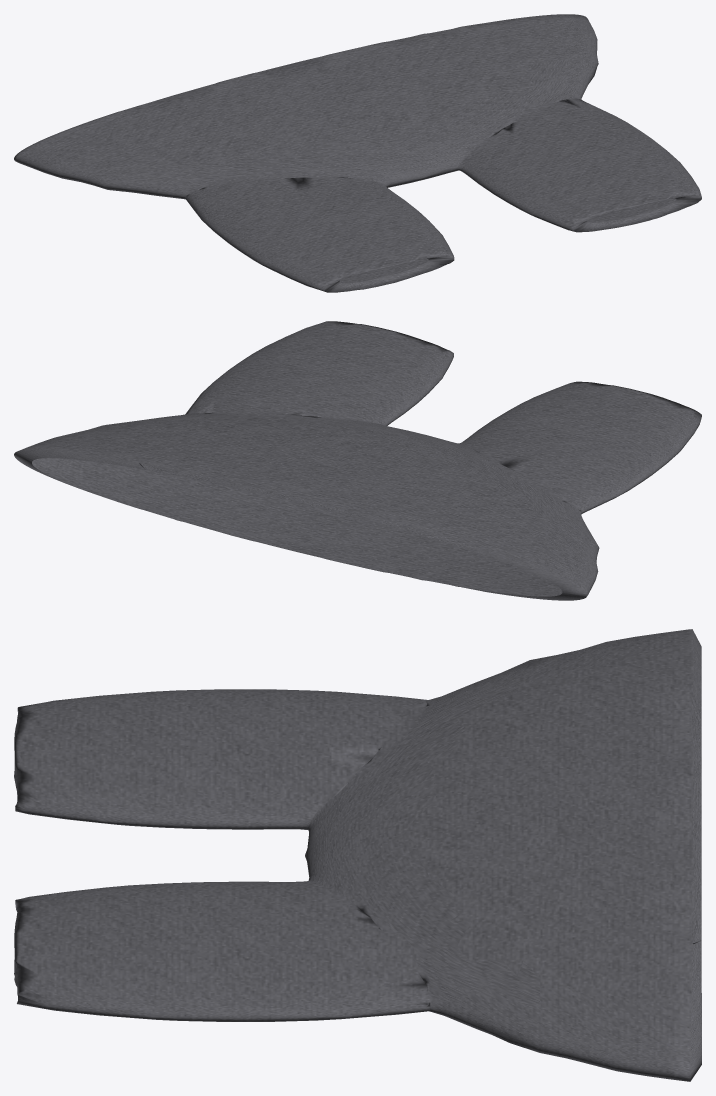
The model's file is trousers1.fbx.
3 views of the same model, one above another, from view 1: azimuth 30°, elevation 25°; view 2: azimuth 150°, elevation 25°; view 3: azimuth 270°, elevation 25° (orthographic). The views are drawn at different scales.
Visible parts, largest first — view 1: trousers1; view 2: trousers1; view 3: trousers1.
Boxes of the visible parts, x1,y1,x2,y2 form: trousers1: [14, 14, 701, 292]; trousers1: [14, 321, 701, 600]; trousers1: [14, 629, 701, 1081].
Size of the model in its own units: 0.8174 by 0.0747 by 0.535.
Materials: 1 (1 with a texture image).
